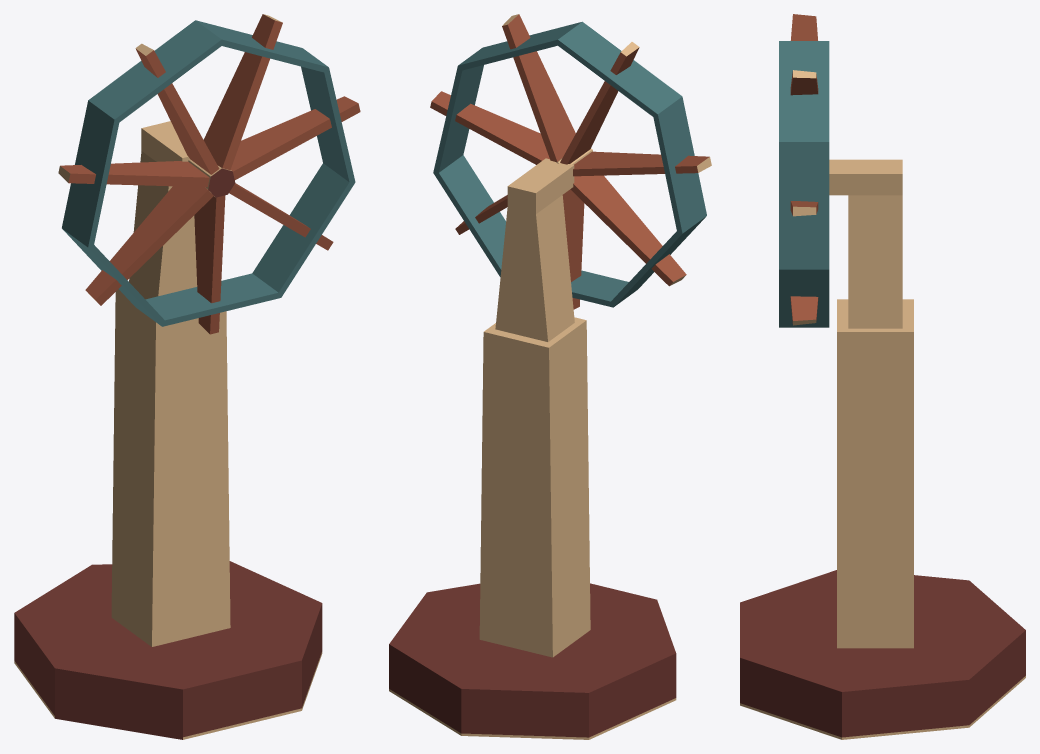
Rendered from helm.glb.
3 views of the same model, side by side, from view 1: azimuth 30°, elevation 25°; view 2: azimuth 150°, elevation 25°; view 3: azimuth 270°, elevation 25° (orthographic). The views are drawn at different scales.
Visible parts, largest first — view 1: Cube; view 2: Cube; view 3: Cube.
Part boxes in pixels (x1=…): Cube: x1=14, y1=14, x2=360, y2=739; Cube: x1=389, y1=14, x2=711, y2=739; Cube: x1=740, y1=14, x2=1025, y2=739.
Size of the model in its own units: 1.57 by 3.45 by 1.4.
